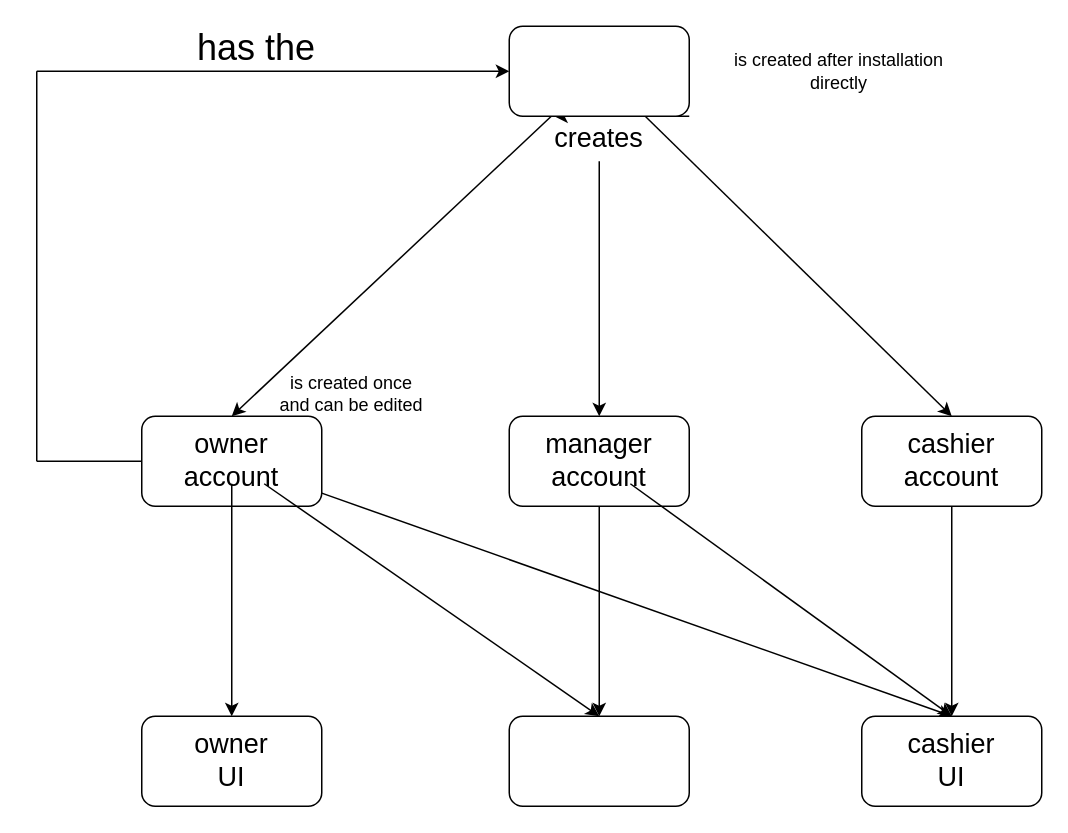
Some shapes in this 1068 by 833 pixel diagram are drawn without their labels. Each missing label, with the centre of its shape:
"main account" goes at [598,70].
"manager UI" goes at [598,760].
